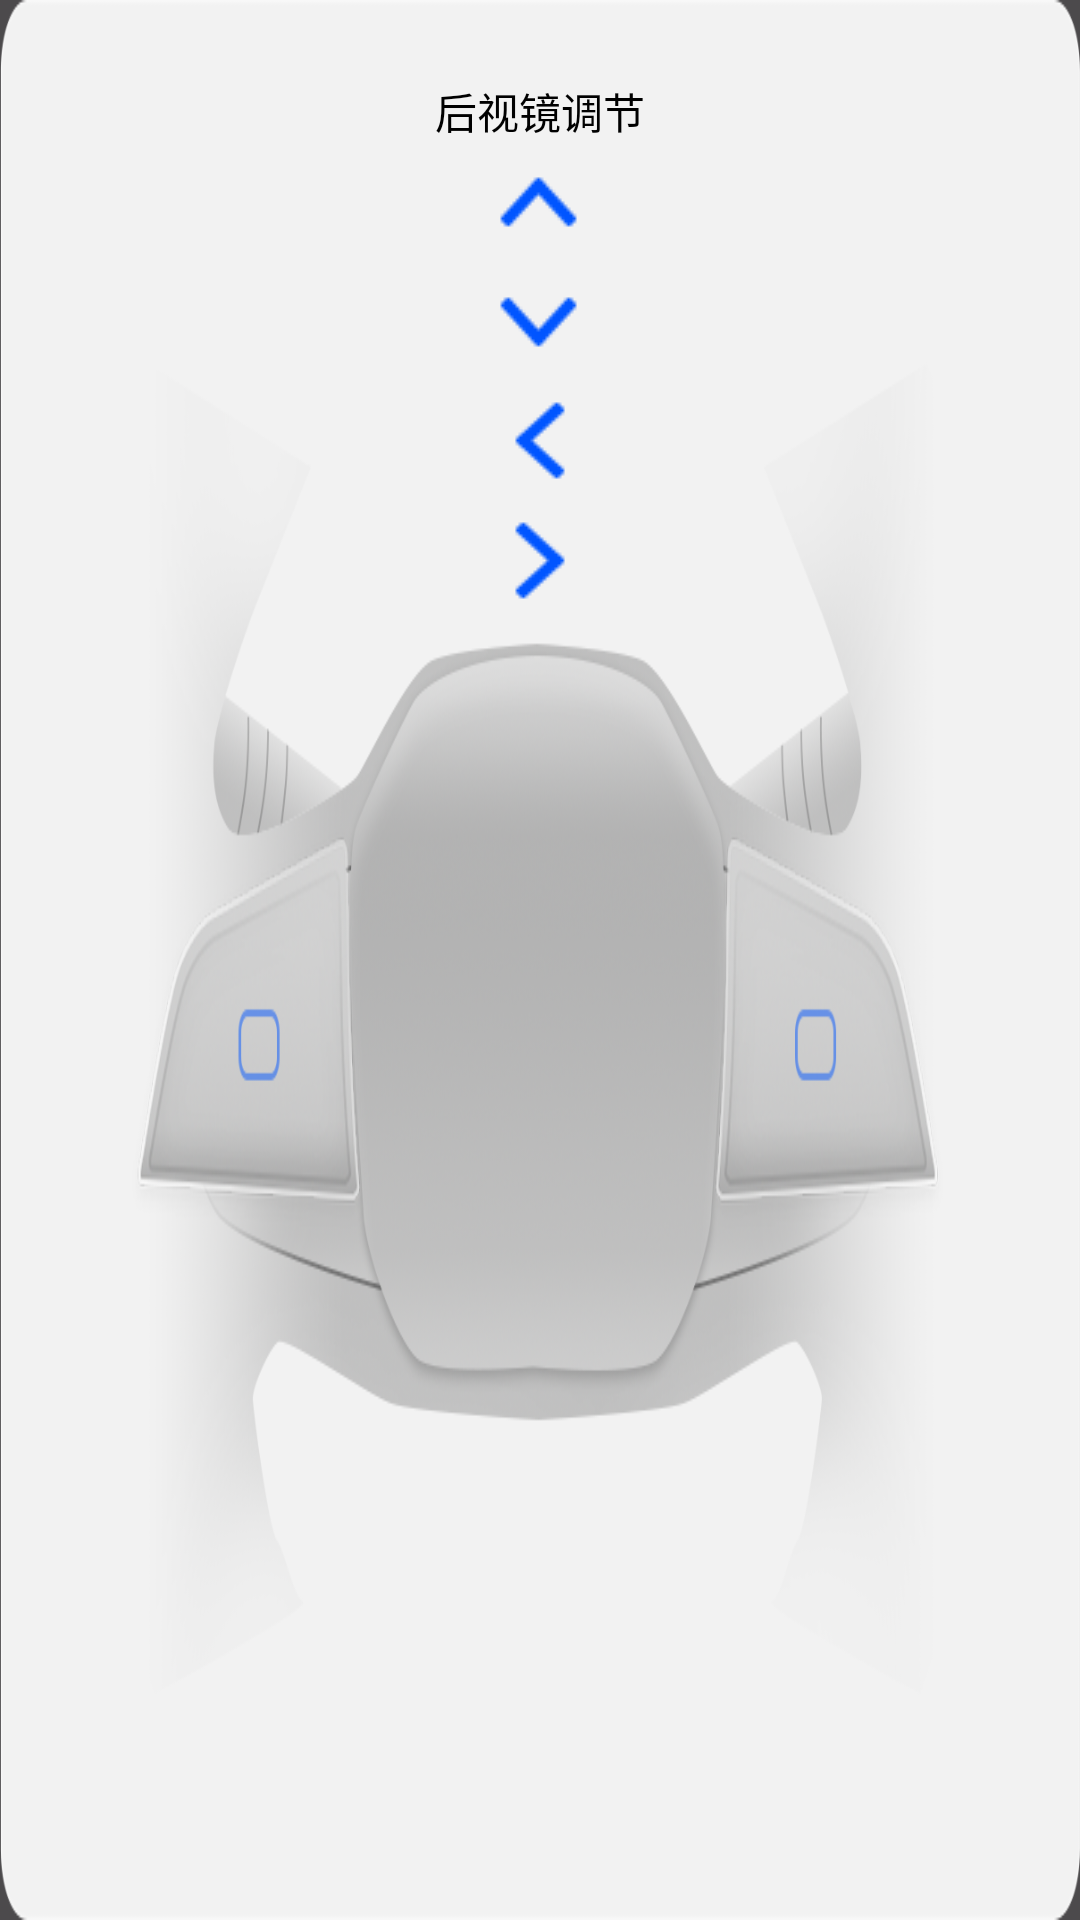

Named icons in this screenshot (1080×1920) and their centers, (x=x, y=y):
down: (x=538, y=322)
left: (x=540, y=440)
right: (x=540, y=560)
